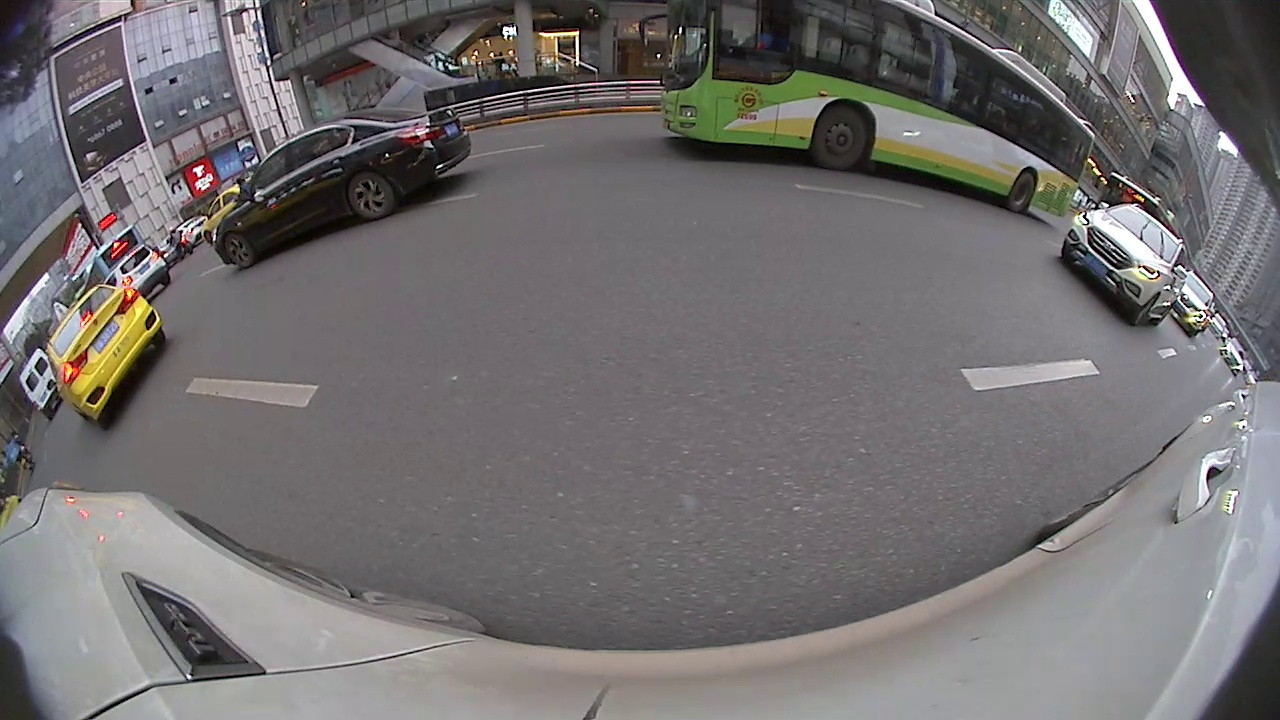bus: (663, 1, 1101, 222), (78, 222, 152, 300)
car: (209, 111, 471, 271), (41, 280, 159, 427), (1058, 201, 1193, 329), (109, 241, 172, 310), (1167, 273, 1217, 339)
front: (812, 103, 869, 174), (221, 232, 256, 272)
rear: (346, 172, 394, 223), (1005, 171, 1037, 216)
